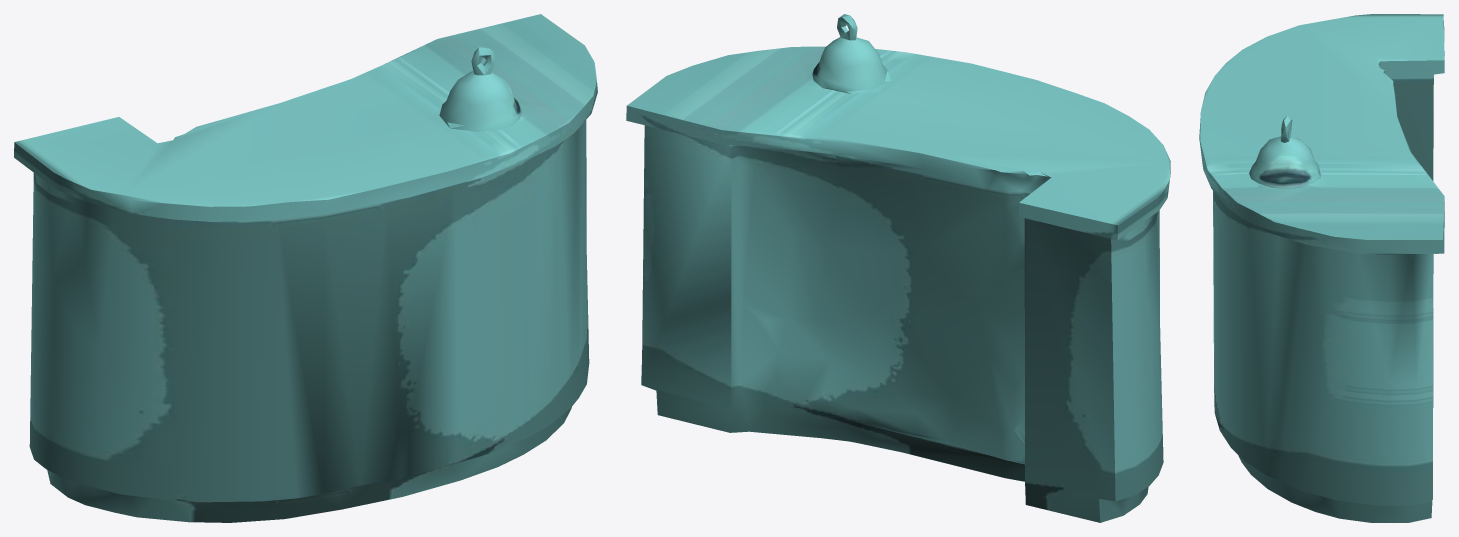
The picture shows the model from 3 angles, left to right: view 1: azimuth 30°, elevation 25°; view 2: azimuth 150°, elevation 25°; view 3: azimuth 270°, elevation 25°; orthographic projection. The views are drawn at different scales.
Parts seen in each view (by area): view 1: Decor_info_desk_a_teal; view 2: Decor_info_desk_a_teal; view 3: Decor_info_desk_a_teal.
Boxes of the visible parts, bbox=[...] form: Decor_info_desk_a_teal: bbox=[14, 14, 597, 522]; Decor_info_desk_a_teal: bbox=[626, 14, 1170, 522]; Decor_info_desk_a_teal: bbox=[1199, 14, 1444, 522].
Size of the model in its own units: 1.52 by 1.1 by 0.6975.
1 material, 1 textured.
